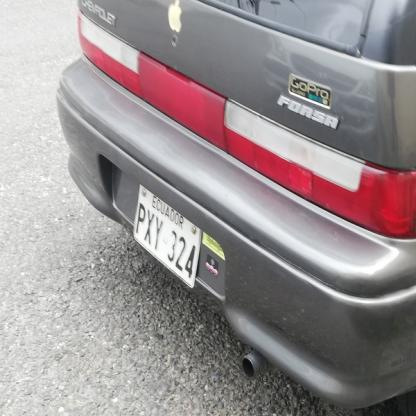Placa: (128, 176, 204, 294)
